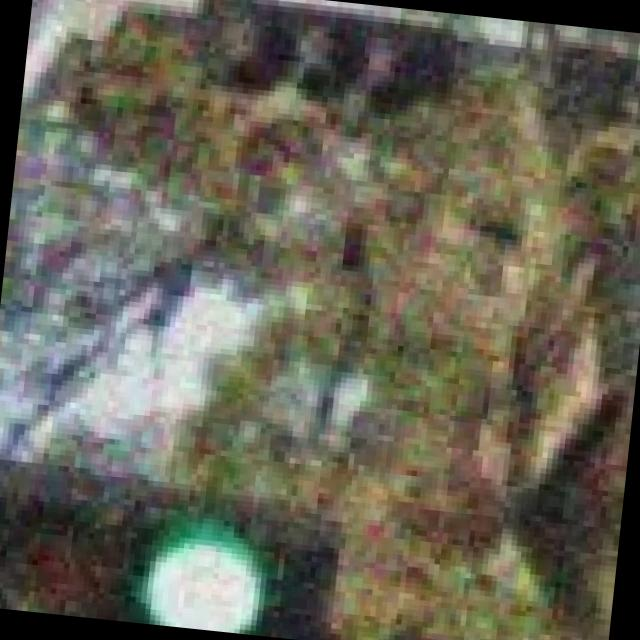green-lights: (115, 508, 282, 636)
